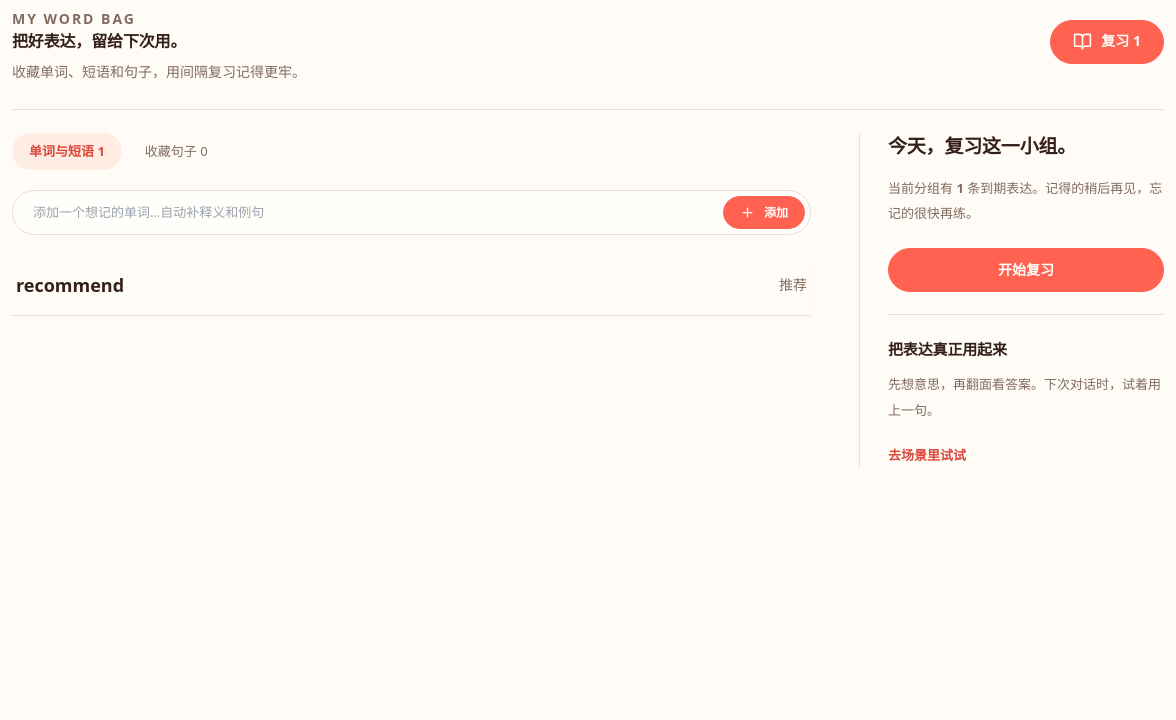
reviews due words and keeps remember/forget and completion reachable
Click the button "复习 1" at (1107, 42), box [1050,20,1164,64]
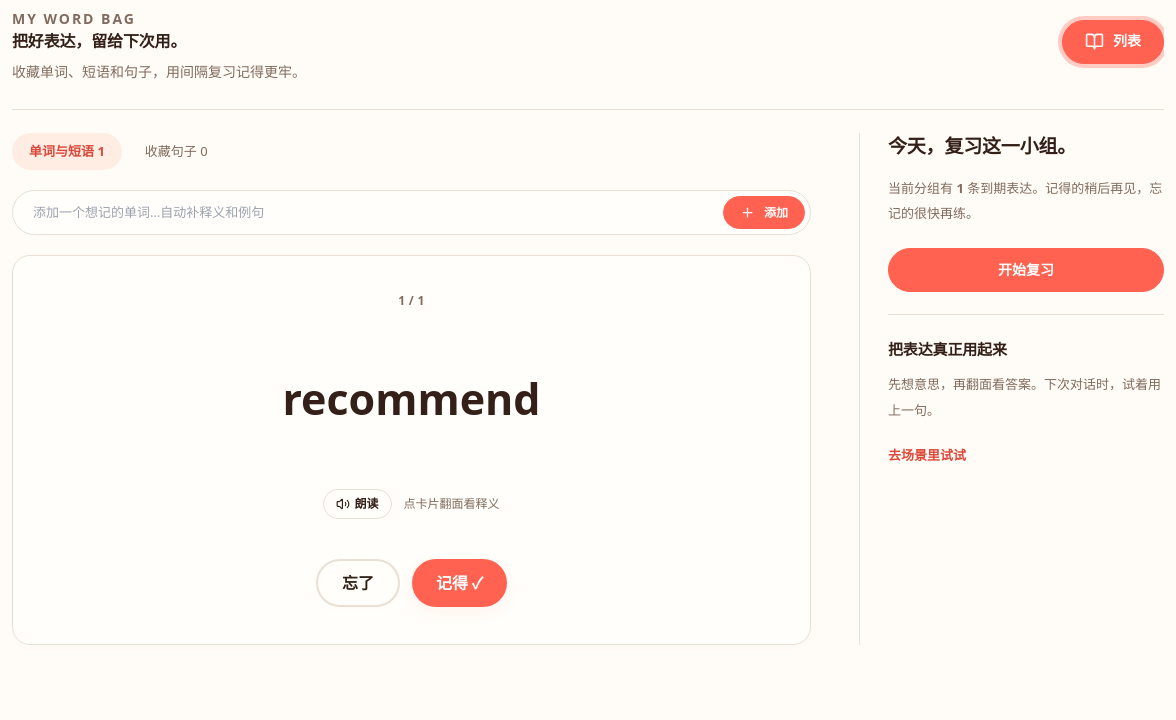
Click the button "recommend" at (412, 399), box [48,329,775,469]
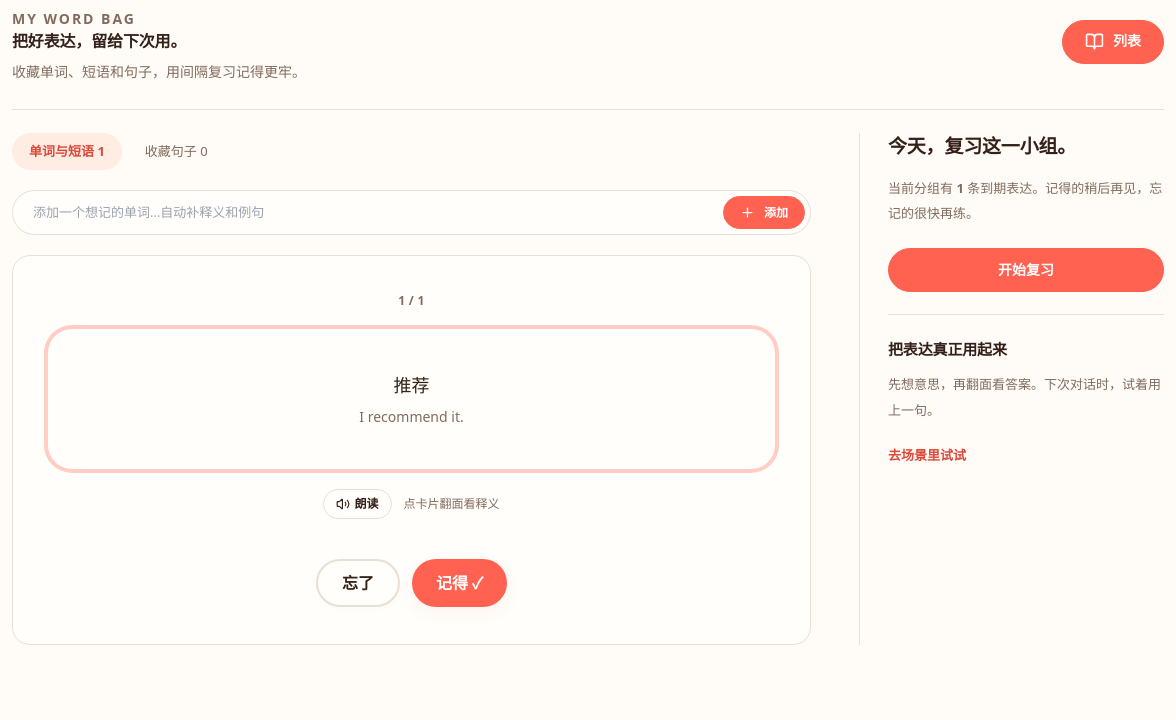
Expected: the text "推荐" is shown, [394,373,430,397]
Click the button "记得 ✓" at (460, 583), box [412,559,507,607]
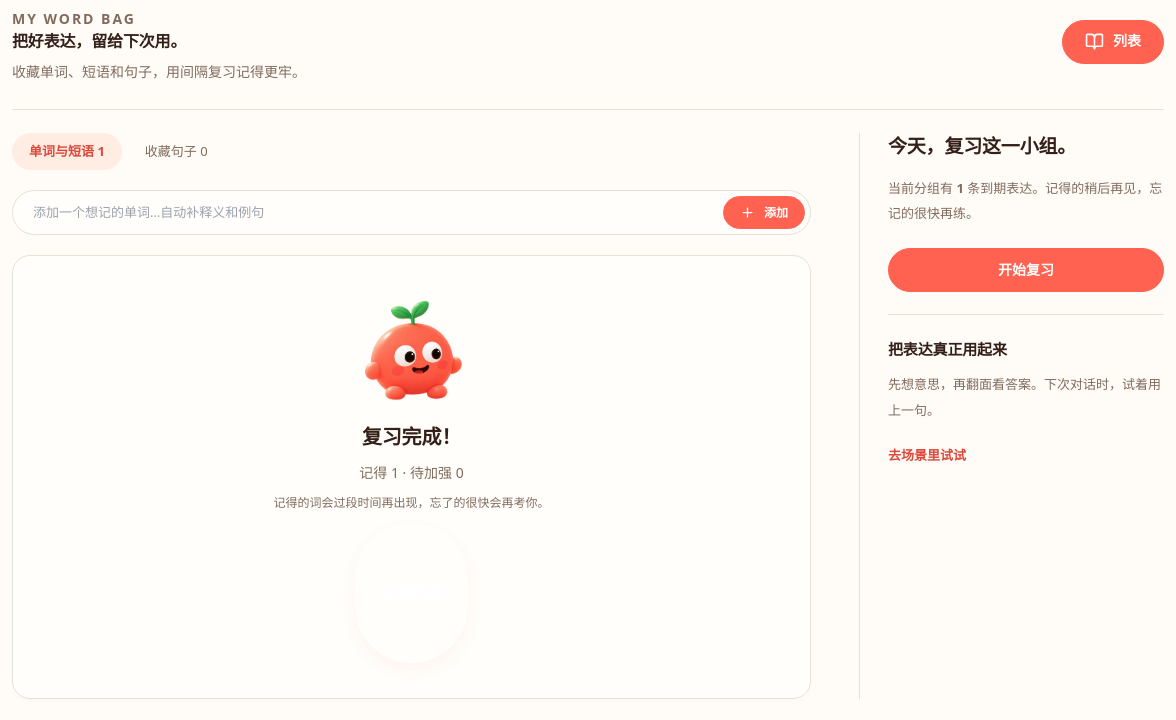
Expected: the heading "复习完成！" is shown, [362,423,461,451]
